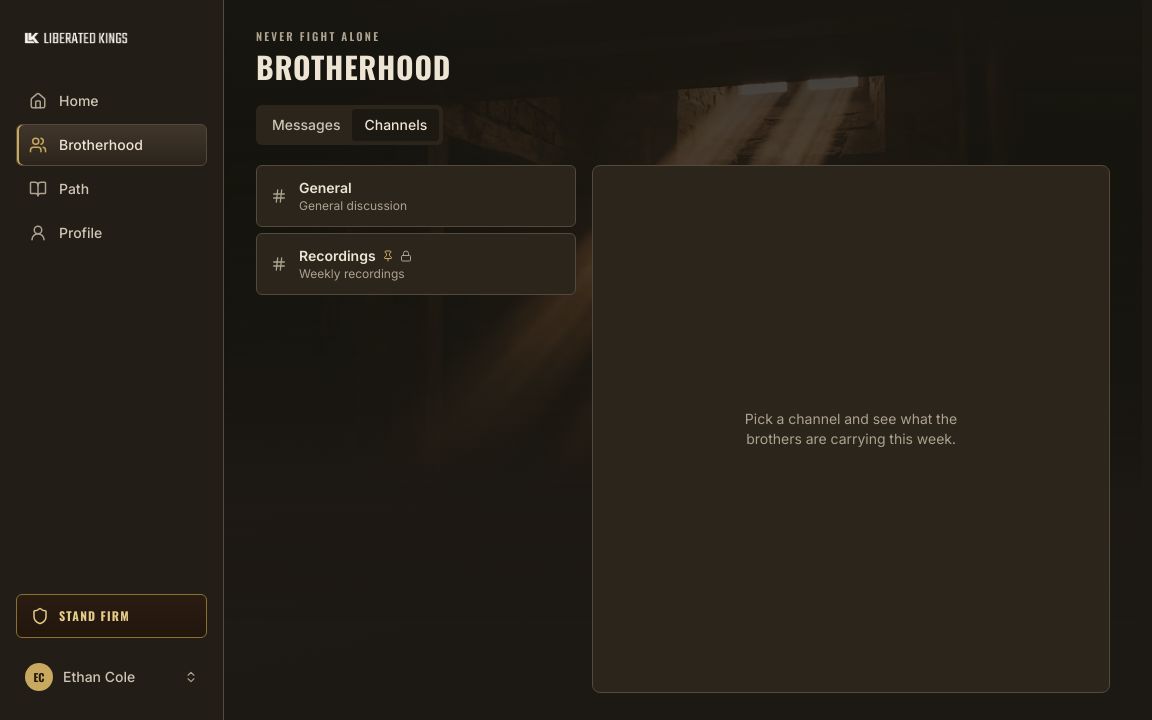
app navigation › a locked channel shows a disabled composer for non-admins
The width and height of the screenshot is (1152, 720).
Check: the heading "Brotherhood" is shown, box top-left (256, 44), bottom-right (451, 88)
Click the button "Recordings Weekly recordings" at (337, 255), box top-left (256, 232), bottom-right (576, 294)
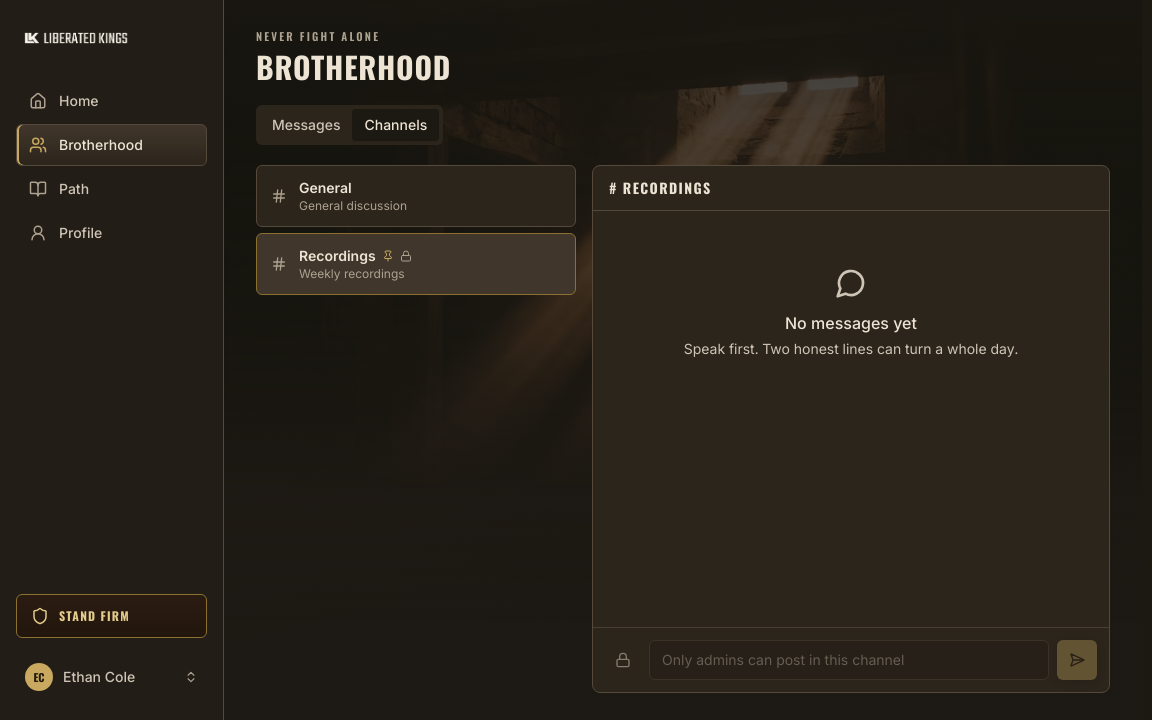
Check: the text "No messages yet" is shown, box top-left (785, 312), bottom-right (917, 332)
Check: the field with placeholder "Only admins can post in this channel" is disabled, box top-left (649, 640), bottom-right (1049, 680)
